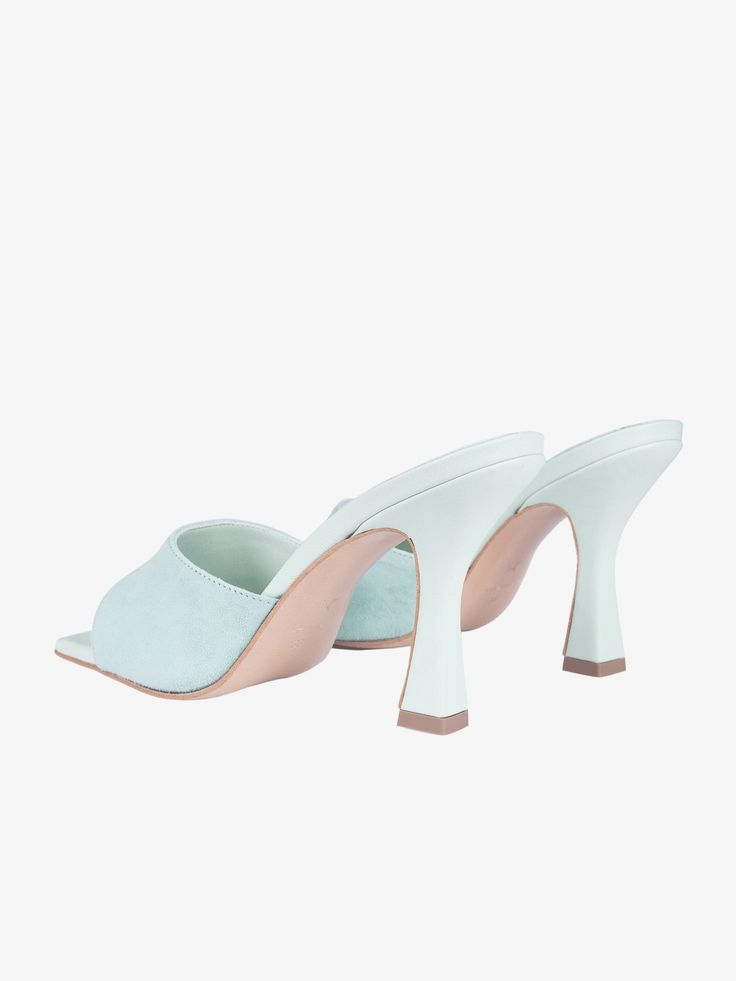gamuza: (90, 516, 415, 692)
